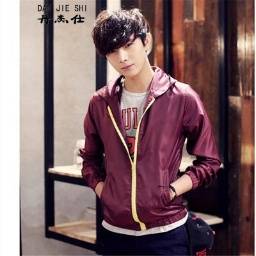face: (91, 9, 152, 78)
